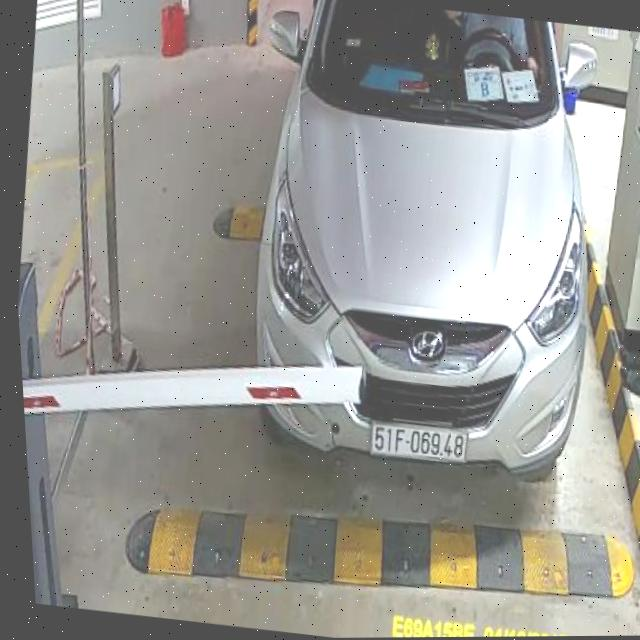car: (209, 0, 640, 506)
plate: (361, 412, 478, 474)
